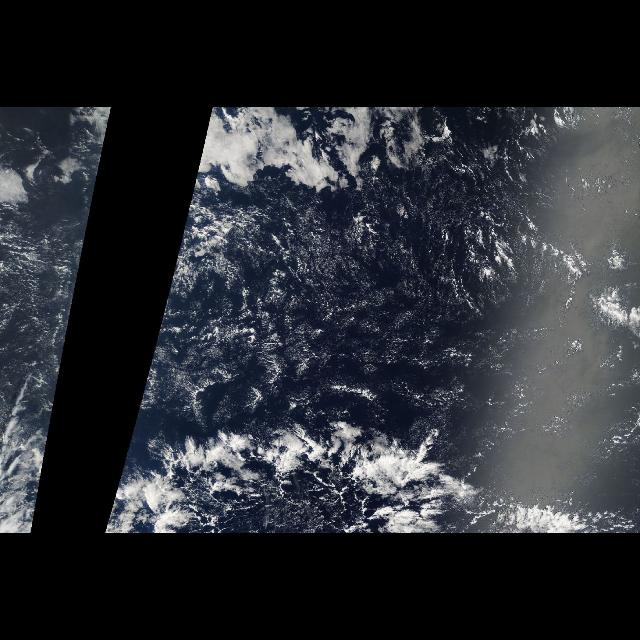Fish: (137, 412, 579, 532)
Gravel: (176, 182, 624, 400)
Sugar: (246, 202, 598, 430)
